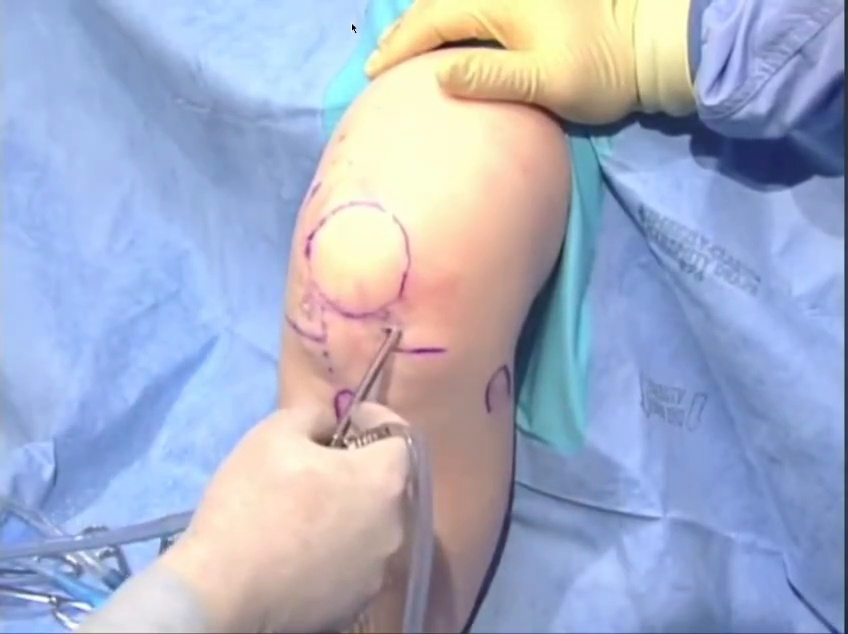arthroscope: (424, 32, 848, 634), (142, 158, 402, 508)
probe: (570, 0, 848, 139), (577, 128, 771, 313), (24, 327, 86, 413), (76, 146, 151, 203)
